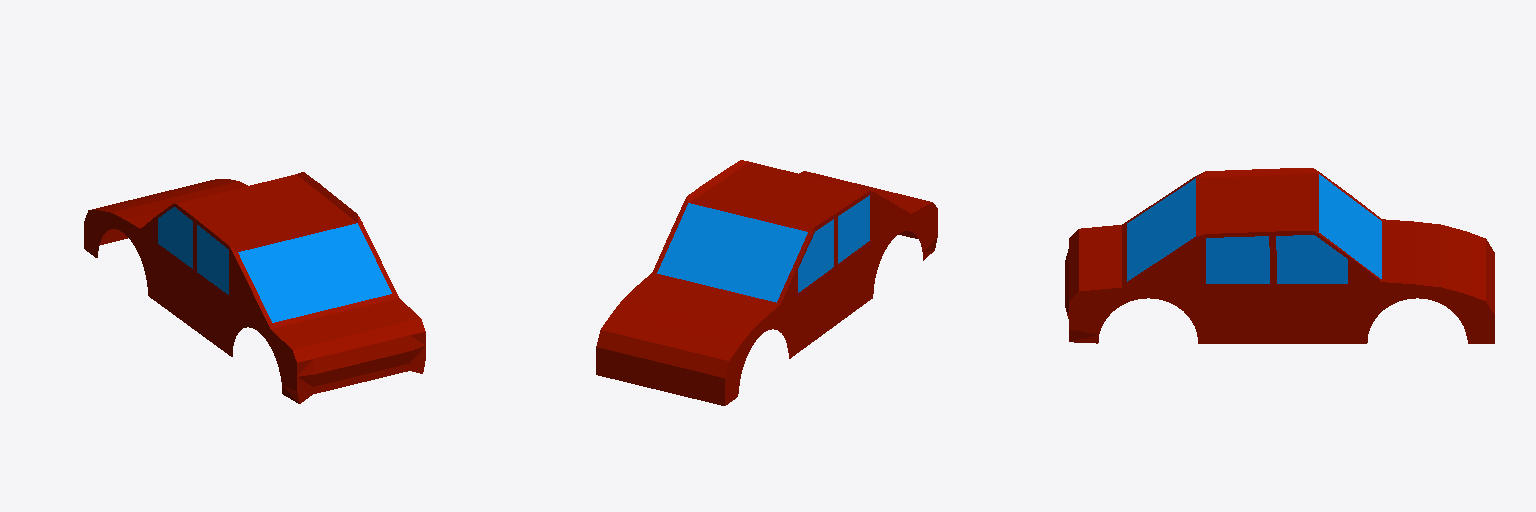
The model's file is Car.obj.
The picture shows the model from 3 angles: view 1: azimuth 30°, elevation 25°; view 2: azimuth 150°, elevation 25°; view 3: azimuth 270°, elevation 25°; orthographic projection.
Parts seen in each view (by area): view 1: Car_Cube.001; view 2: Car_Cube.001; view 3: Car_Cube.001.
Boxes of the visible parts, box(x1,y1,x2,y2) form: Car_Cube.001: box(84, 172, 425, 403); Car_Cube.001: box(596, 160, 937, 405); Car_Cube.001: box(1065, 168, 1494, 343).
Bounding box in the file's own units: 1.8 × 1.5 × 5.2.